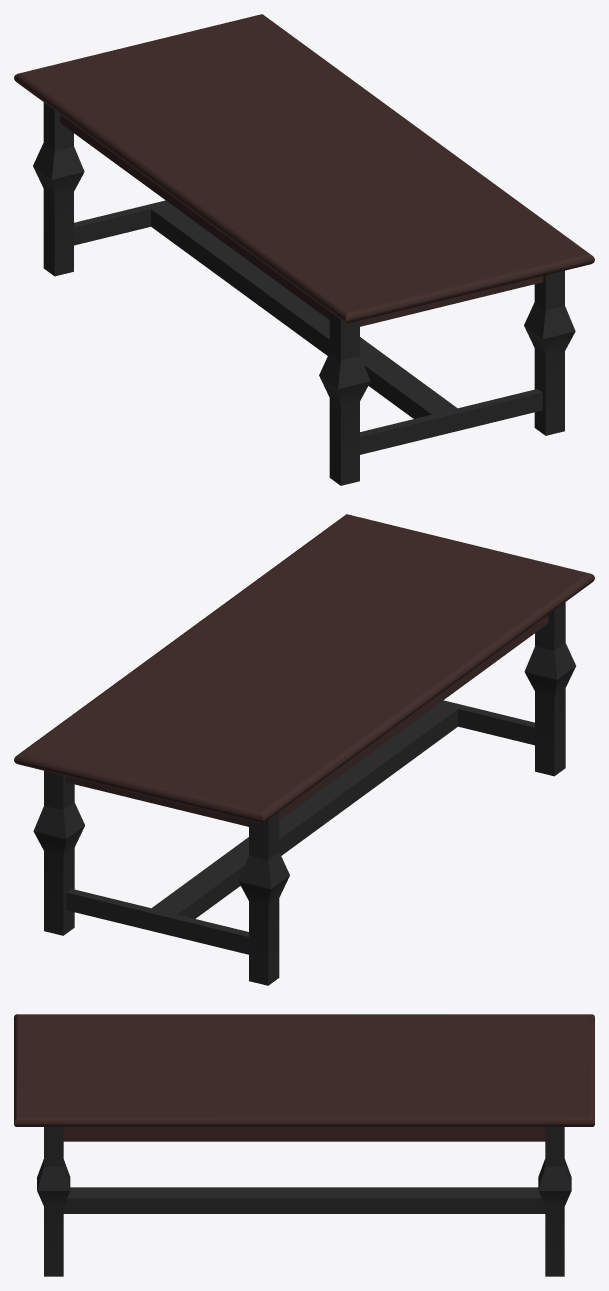
Rendered from GrandeTable_74.fbx.
3 renders of one model, top to bottom at view 1: azimuth 30°, elevation 25°; view 2: azimuth 150°, elevation 25°; view 3: azimuth 270°, elevation 25°, orthographic. The views are drawn at different scales.
Visible parts, largest first — view 1: pCube105, pCube107, polySurface28, polySurface29, polySurface31; view 2: pCube105, pCube107, polySurface29, polySurface28, polySurface30; view 3: pCube105, pCube107, polySurface31, polySurface30.
Part boxes in pixels (x1,y1,x2,y2): pCube105: (14, 14, 594, 326); pCube107: (74, 200, 542, 454); polySurface28: (319, 312, 370, 485); polySurface29: (33, 102, 84, 276); polySurface31: (524, 270, 575, 435); pCube105: (14, 514, 594, 826); pCube107: (66, 700, 534, 954); polySurface29: (238, 812, 289, 985); polySurface28: (524, 602, 575, 776); polySurface30: (33, 770, 84, 935); pCube105: (14, 1014, 594, 1141); pCube107: (63, 1187, 545, 1213); polySurface31: (37, 1127, 70, 1276); polySurface30: (538, 1127, 571, 1276).
Bounding box in the file's own units: 56.13 × 40.09 × 129.
